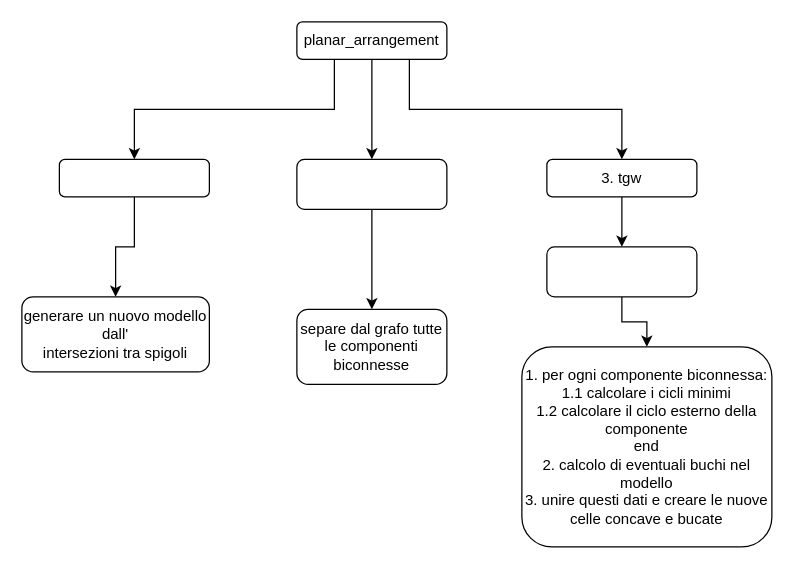
This 794x569 diagram has some shape labels left out. The shapes that lost their labels are listed below. From the top down, each one's centre as x and y in pixels, then its label:
point 133,177: 1. grafo planare
point 371,183: 2. componenti biconnesse
point 621,271: calcolare le nuove celle
